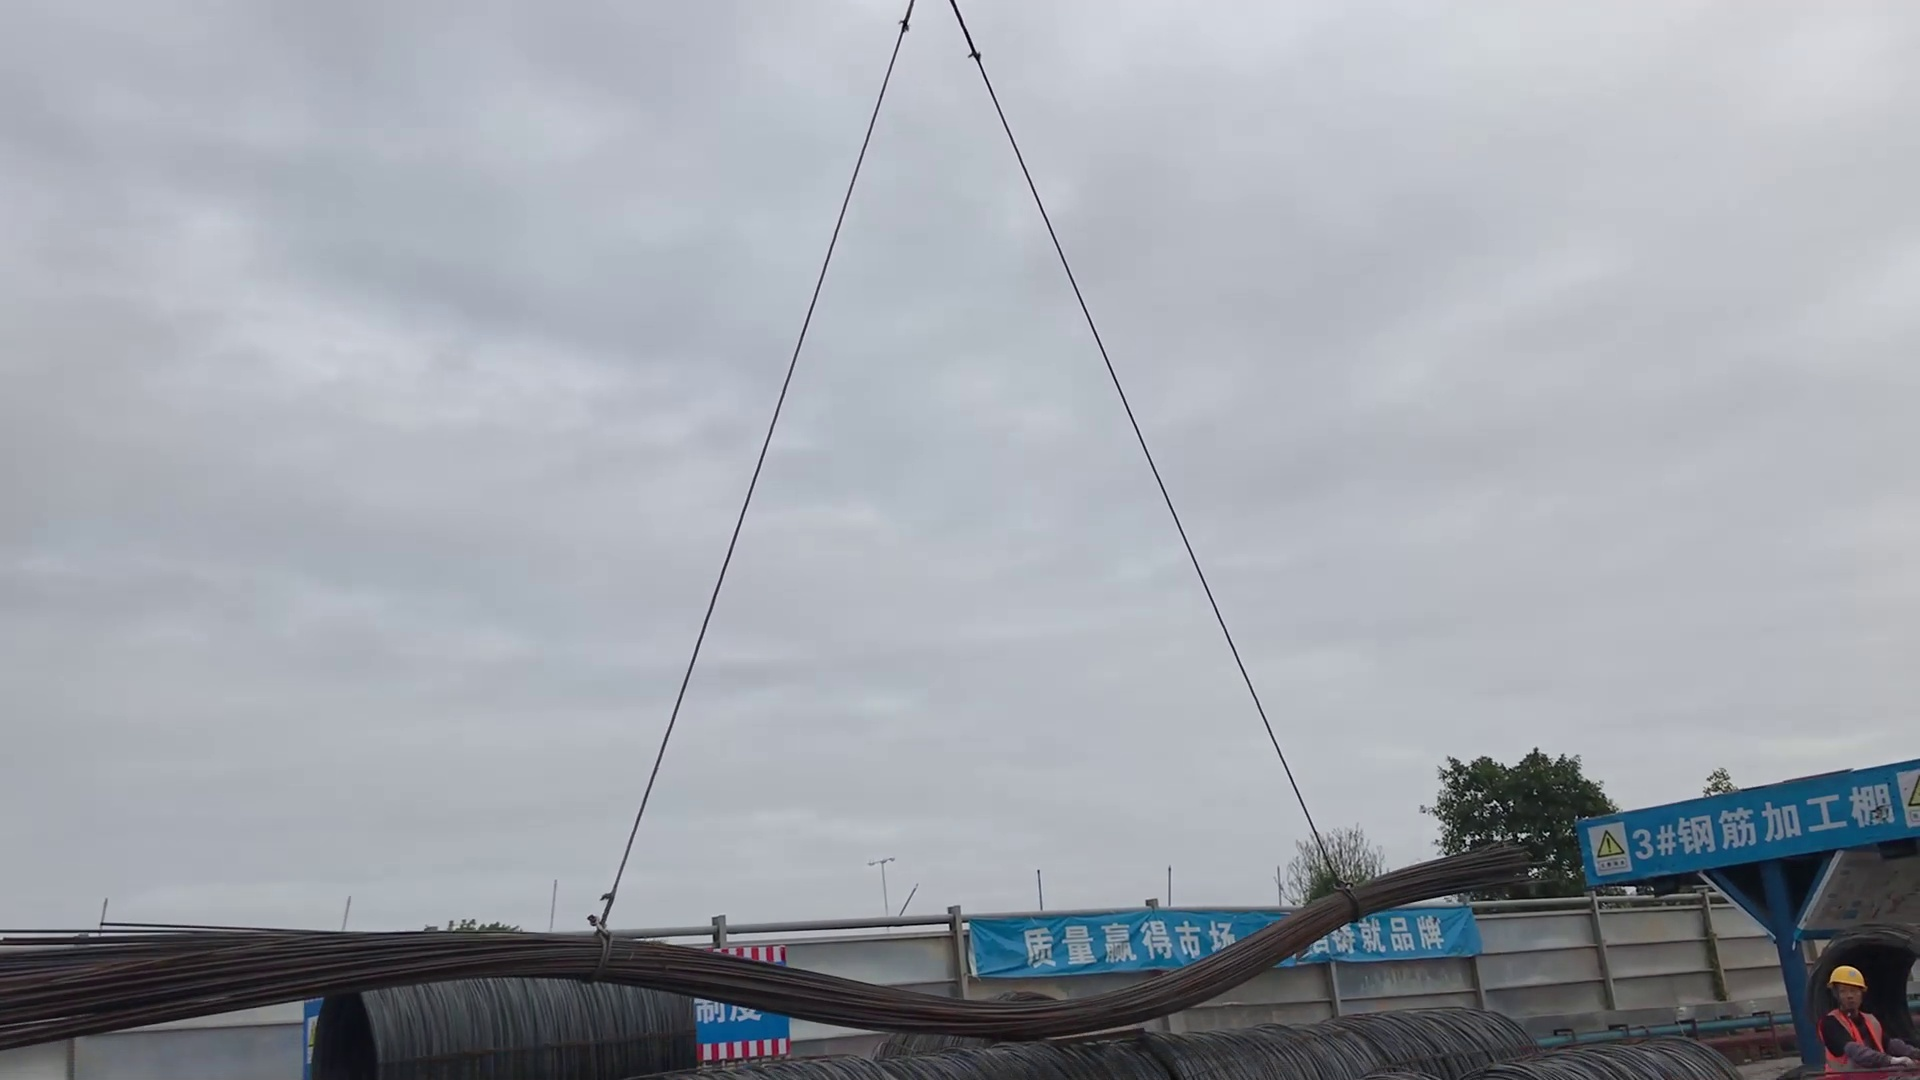helmet: (1827, 966, 1867, 991)
person: (1817, 965, 1913, 1080)
rebar: (1, 834, 1540, 1054)
slogan: (968, 905, 1472, 977)
vest: (1822, 1010, 1882, 1080)
